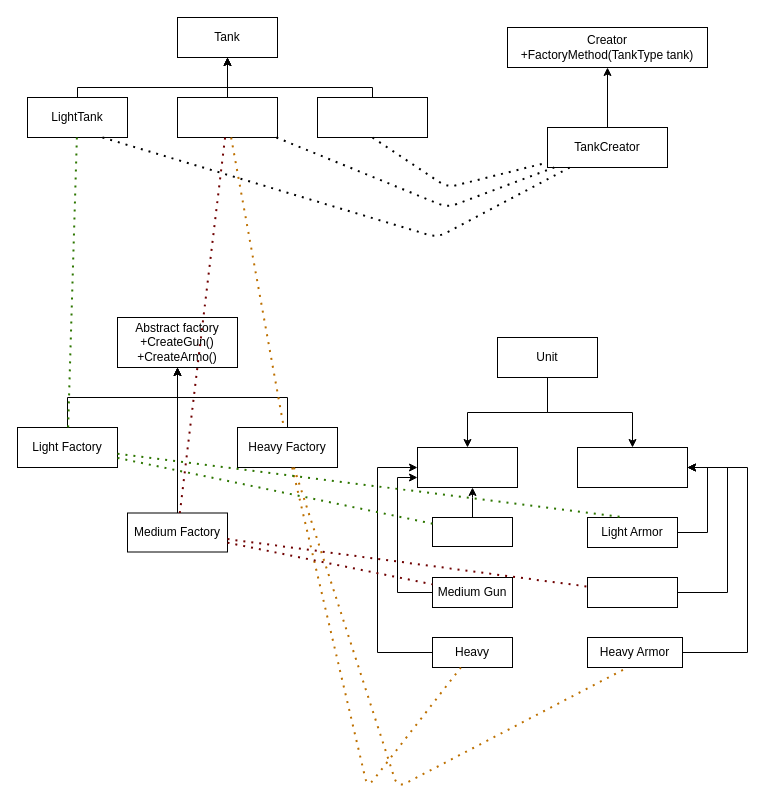
Some shapes in this 773 by 807 pixel diagram are drawn without their labels. The box of each missing label's shape, as (x1, y1, x2, y2) in pixels:
Armor: (576, 446, 688, 488)
Gun: (416, 446, 518, 488)
HeavyTank: (316, 96, 428, 138)
Light Gun: (432, 516, 512, 546)
Medium Armor: (586, 576, 678, 608)
MediumTank: (176, 96, 278, 138)
